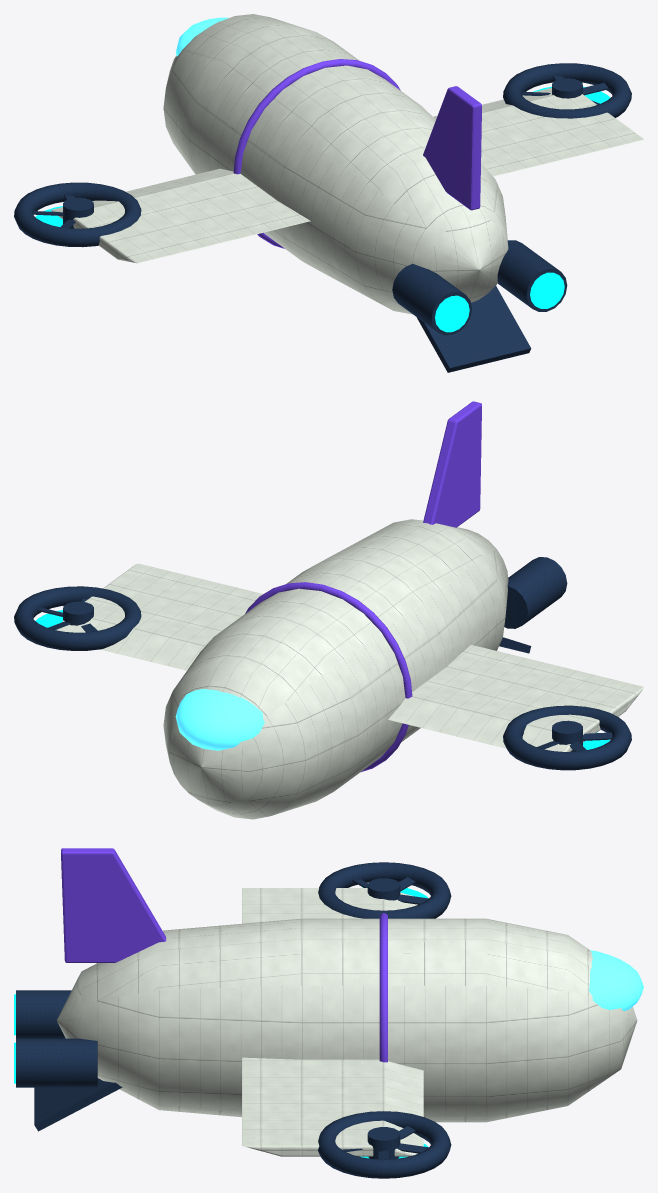
Rendered from env_dropship.glb.
3 renders of one model, top to bottom at view 1: azimuth 30°, elevation 25°; view 2: azimuth 150°, elevation 25°; view 3: azimuth 270°, elevation 25°, orthographic. The views are drawn at different scales.
Visible parts, largest first — view 1: env_dropship; view 2: env_dropship; view 3: env_dropship.
Part boxes in pixels (<box>): env_dropship: <box>14,14,643,372</box>; env_dropship: <box>14,401,643,819</box>; env_dropship: <box>14,848,643,1178</box>.
Size of the model in its own units: 17.7 by 7.24 by 15.41.
5 materials, 2 textured.
